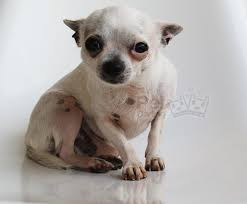chihuahua: (15, 2, 199, 190)
